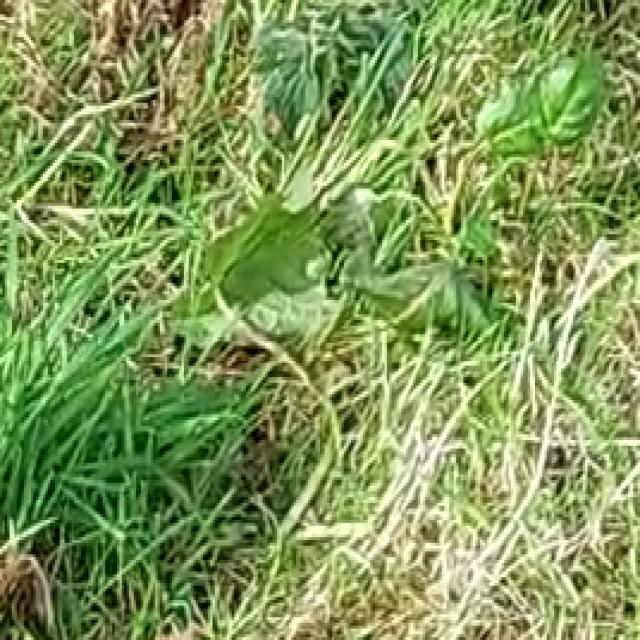organic waste: (100, 86, 502, 331)
